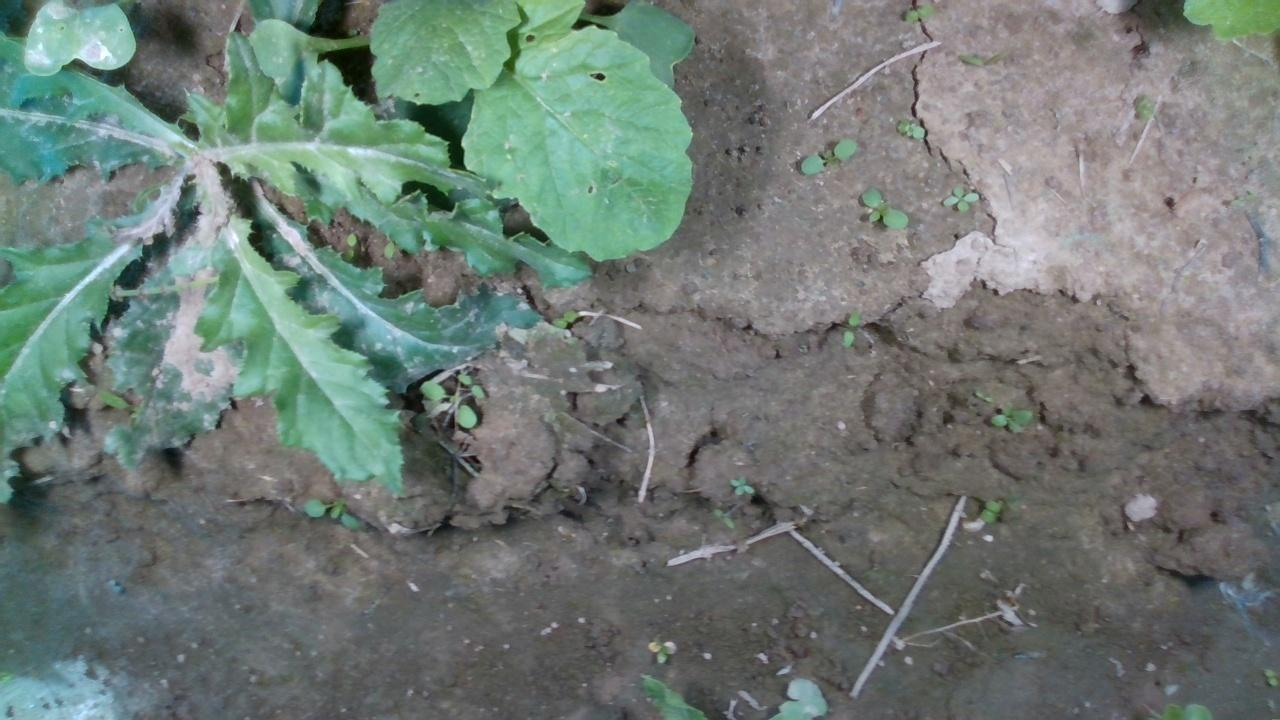weed: (797, 137, 856, 176), (860, 186, 908, 230), (938, 182, 979, 211), (644, 631, 676, 664), (839, 306, 862, 350), (894, 117, 925, 139), (977, 497, 999, 525), (1262, 665, 1276, 690), (972, 390, 994, 403)
